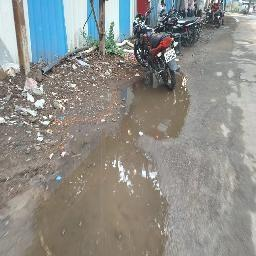water accumulation: (31, 69, 191, 256)
